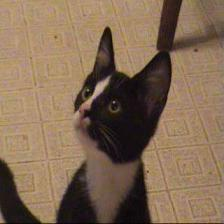cat: (71, 26, 176, 161)
